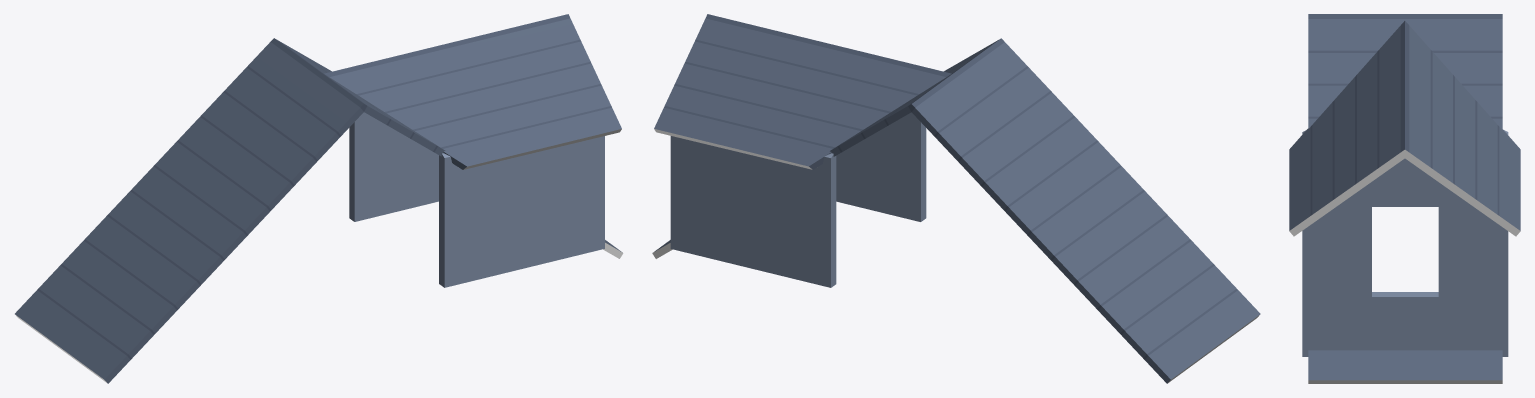
Rendered from Roof2_C4_06.fbx.
3 views of the same model, side by side, from view 1: azimuth 30°, elevation 25°; view 2: azimuth 150°, elevation 25°; view 3: azimuth 270°, elevation 25° (orthographic). The views are drawn at different scales.
Visible parts, largest first — view 1: Roof2_C4_06; view 2: Roof2_C4_06; view 3: Roof2_C4_06.
Part boxes in pixels (box(x1,y1,x2,y2)): Roof2_C4_06: box(15, 14, 623, 383); Roof2_C4_06: box(652, 14, 1260, 383); Roof2_C4_06: box(1289, 14, 1520, 383).
Bounding box in the file's own units: 833 × 334 × 298.
